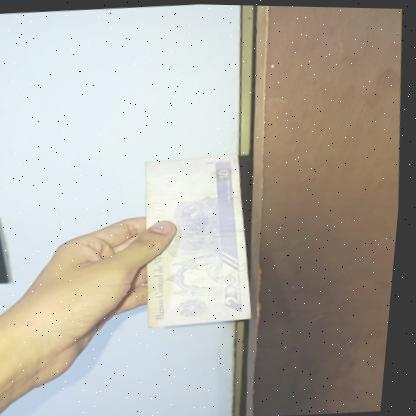ten-back-vef: (135, 152, 270, 331)
